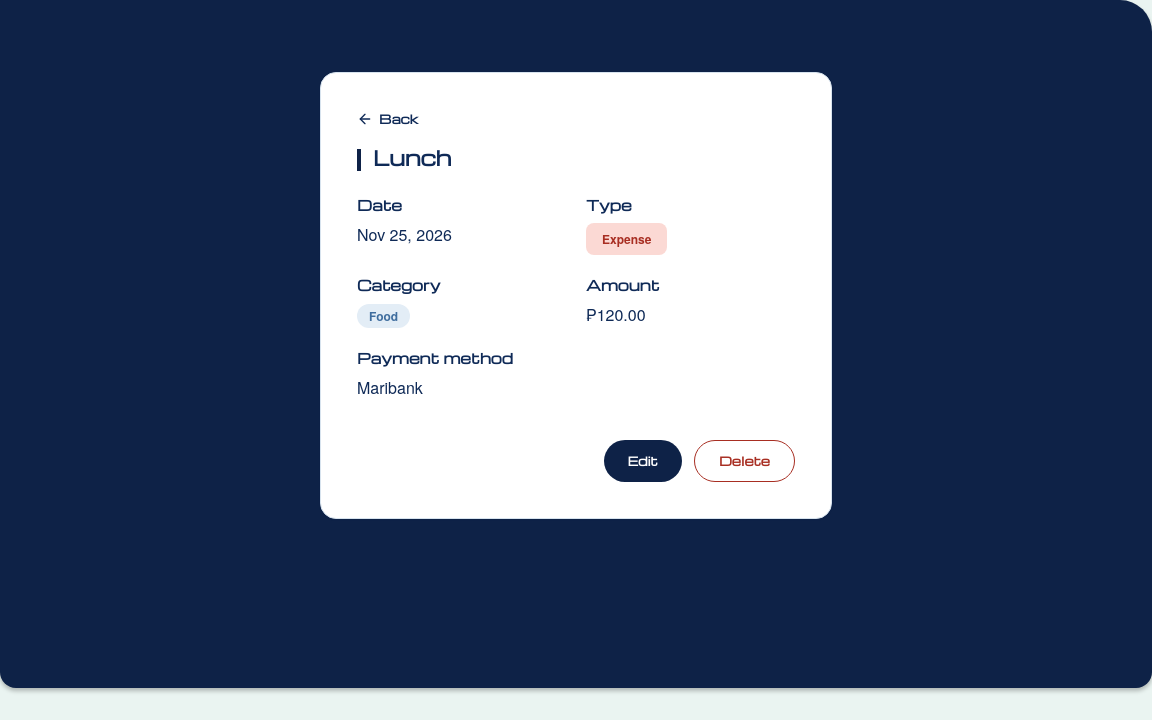
Test: TransactionDetail › saves a new payment method
Click the button "Edit" at (643,461), box [604,440,682,482]
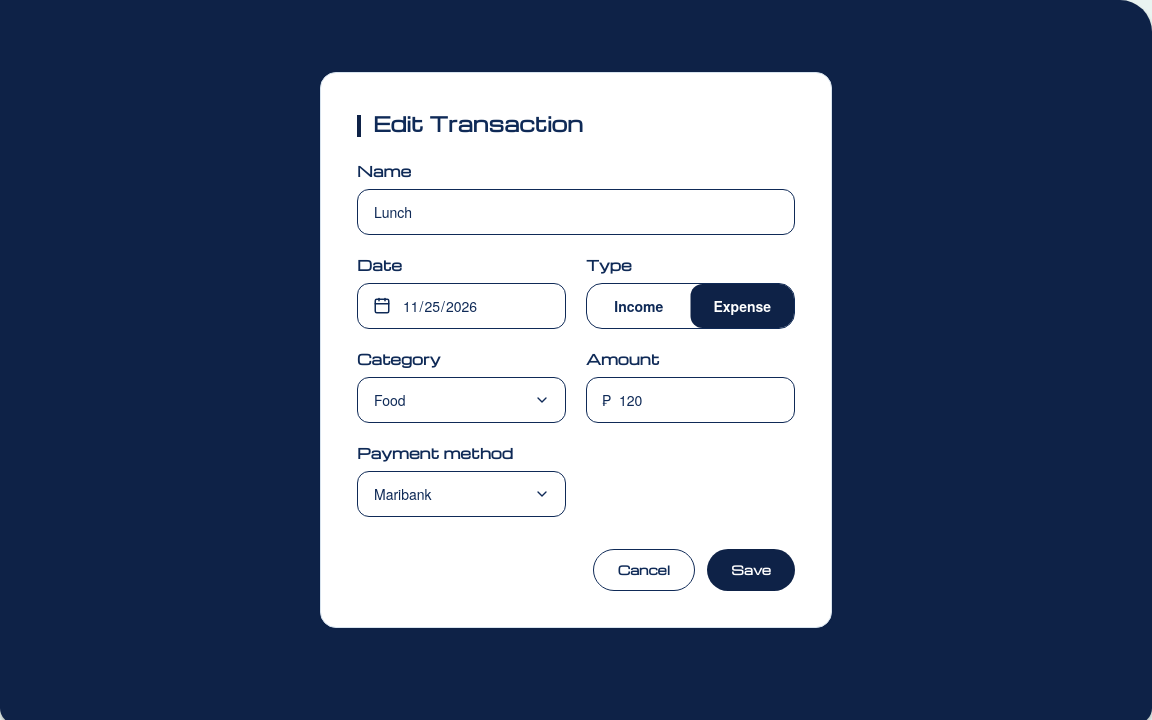
Check: the dropdown labelled "Payment method" shows "Maribank"
Select "GCash" in the dropdown labelled "Payment method" at (462,494), box [357,471,566,517]
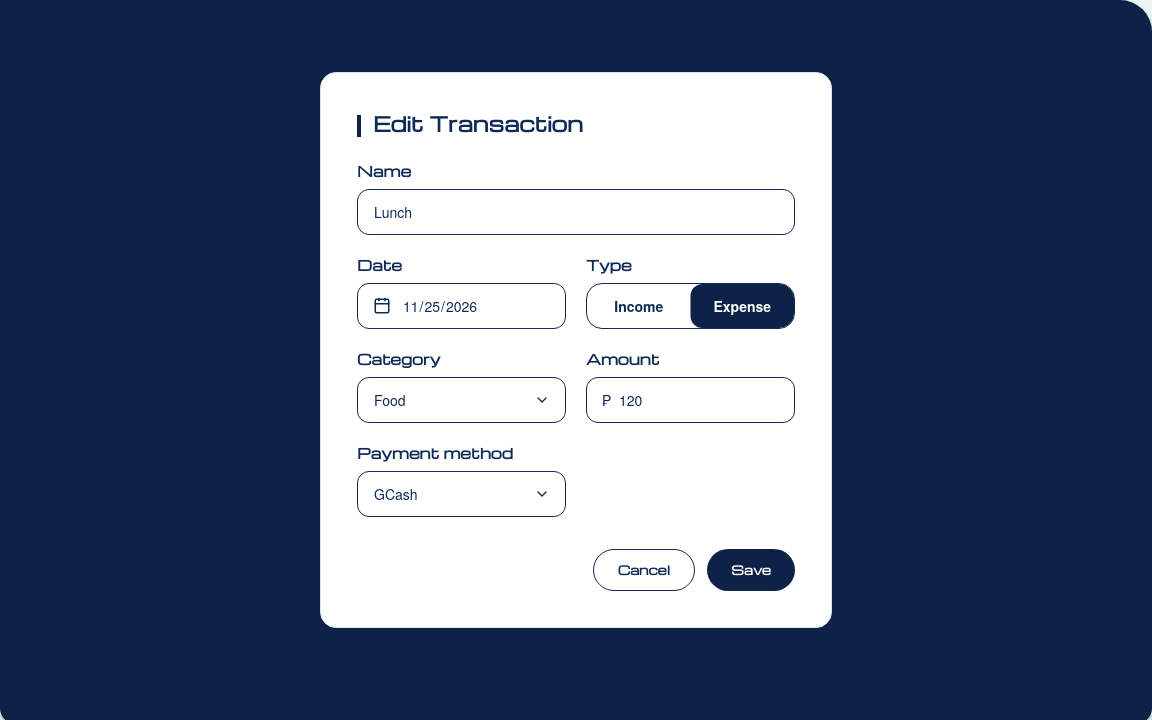
Click the button "Save" at (751,570), box [707,549,795,591]
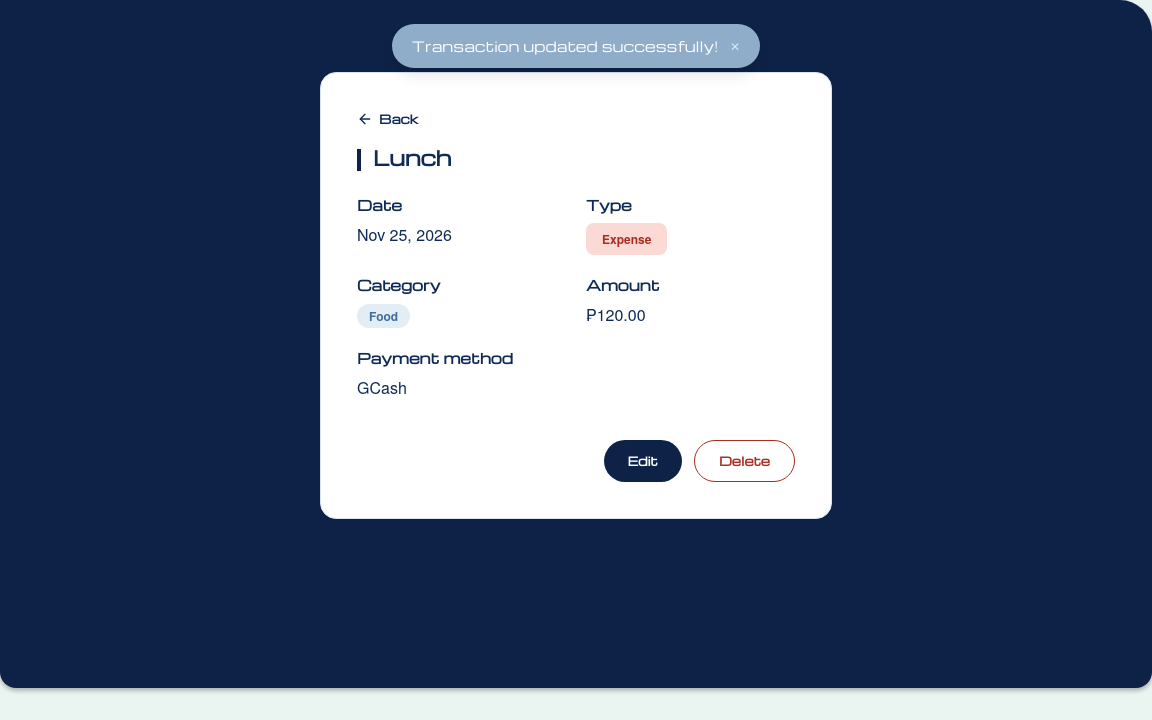
Check: the text "GCash" is shown, box [357,376,407,399]
